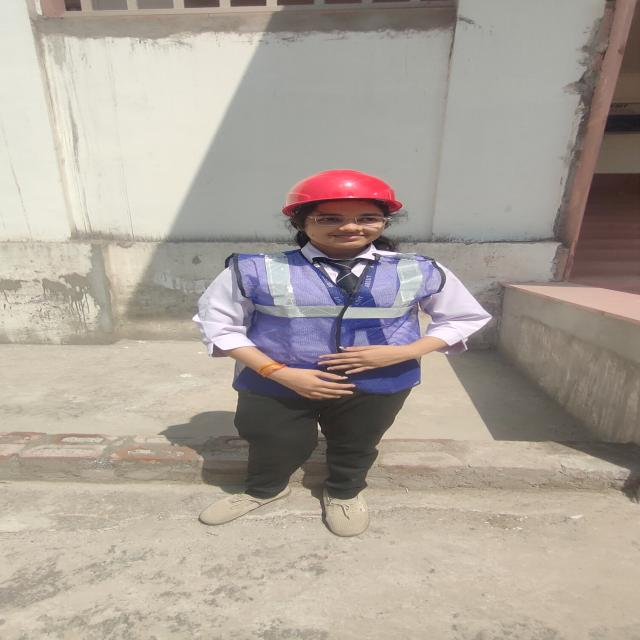safe: (198, 170, 478, 536)
